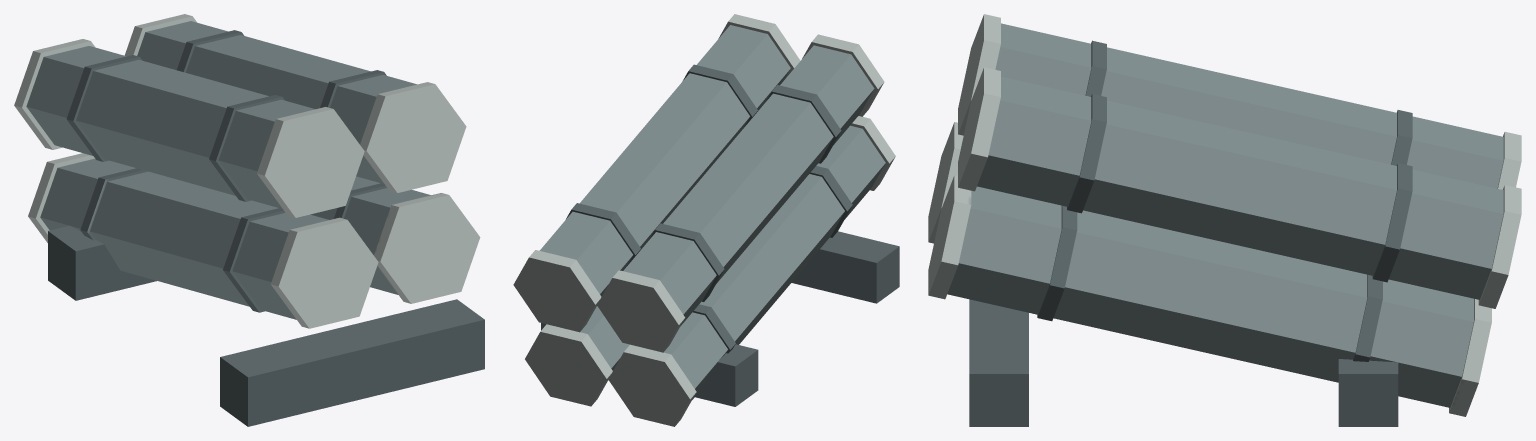
Rendered from mount_spruance_harpoon.glb.
The picture shows the model from 3 angles, left to right: view 1: azimuth 30°, elevation 25°; view 2: azimuth 150°, elevation 25°; view 3: azimuth 270°, elevation 25°; orthographic projection. The views are drawn at different scales.
Parts seen in each view (by area): view 1: MESH_SPRUANCE_TEMPLATE_harpoon; view 2: MESH_SPRUANCE_TEMPLATE_harpoon; view 3: MESH_SPRUANCE_TEMPLATE_harpoon.
Part boxes in pixels (x1,y1,x2,y2): MESH_SPRUANCE_TEMPLATE_harpoon: [14, 14, 484, 426]; MESH_SPRUANCE_TEMPLATE_harpoon: [513, 14, 899, 426]; MESH_SPRUANCE_TEMPLATE_harpoon: [928, 14, 1521, 426].
Size of the model in its own units: 1.89 by 2.3 by 3.82.
1 material, 1 textured.
